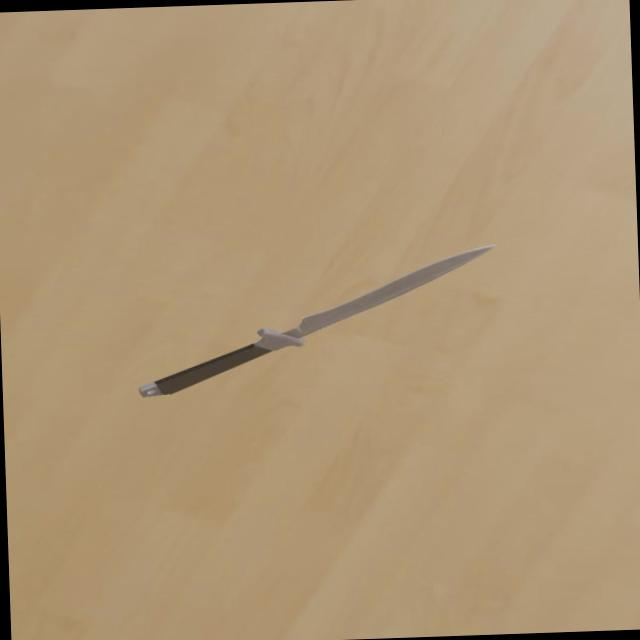knife: (138, 341, 274, 396)
